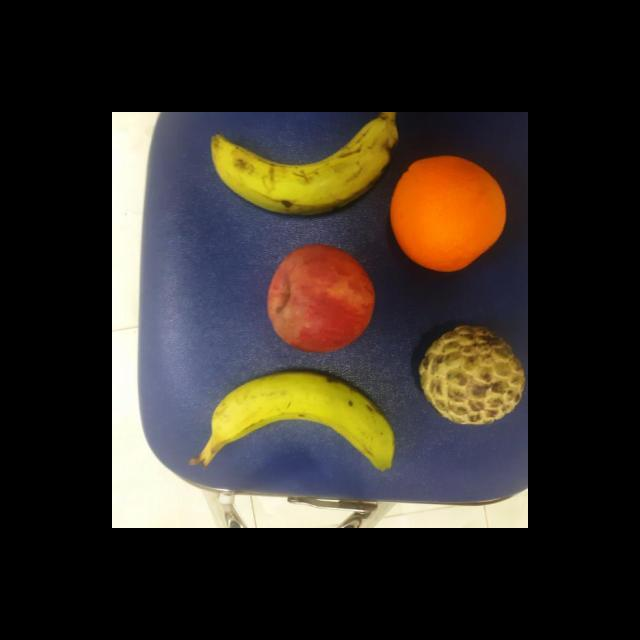Sakya fruit: (417, 322, 527, 428)
apple: (266, 243, 376, 356)
banana: (195, 368, 399, 471), (210, 112, 400, 221)
orange: (388, 154, 508, 276)
